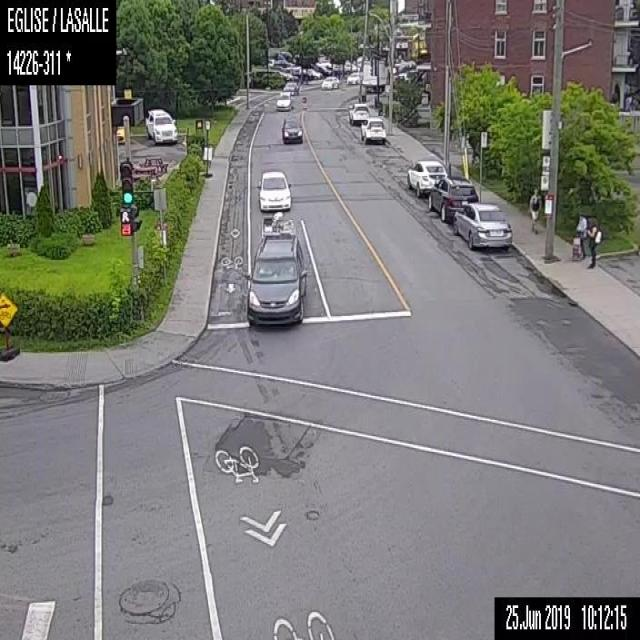pedestrian: (585, 215, 602, 270), (572, 212, 586, 268), (528, 187, 542, 234)
vehicle: (244, 212, 306, 324), (450, 201, 513, 249), (427, 172, 479, 221), (254, 165, 292, 211), (406, 157, 448, 198), (144, 108, 177, 144), (362, 58, 384, 94), (279, 115, 303, 144), (360, 117, 385, 144), (347, 100, 369, 124), (274, 90, 292, 109), (319, 74, 340, 90), (282, 80, 300, 93), (346, 70, 360, 86)
